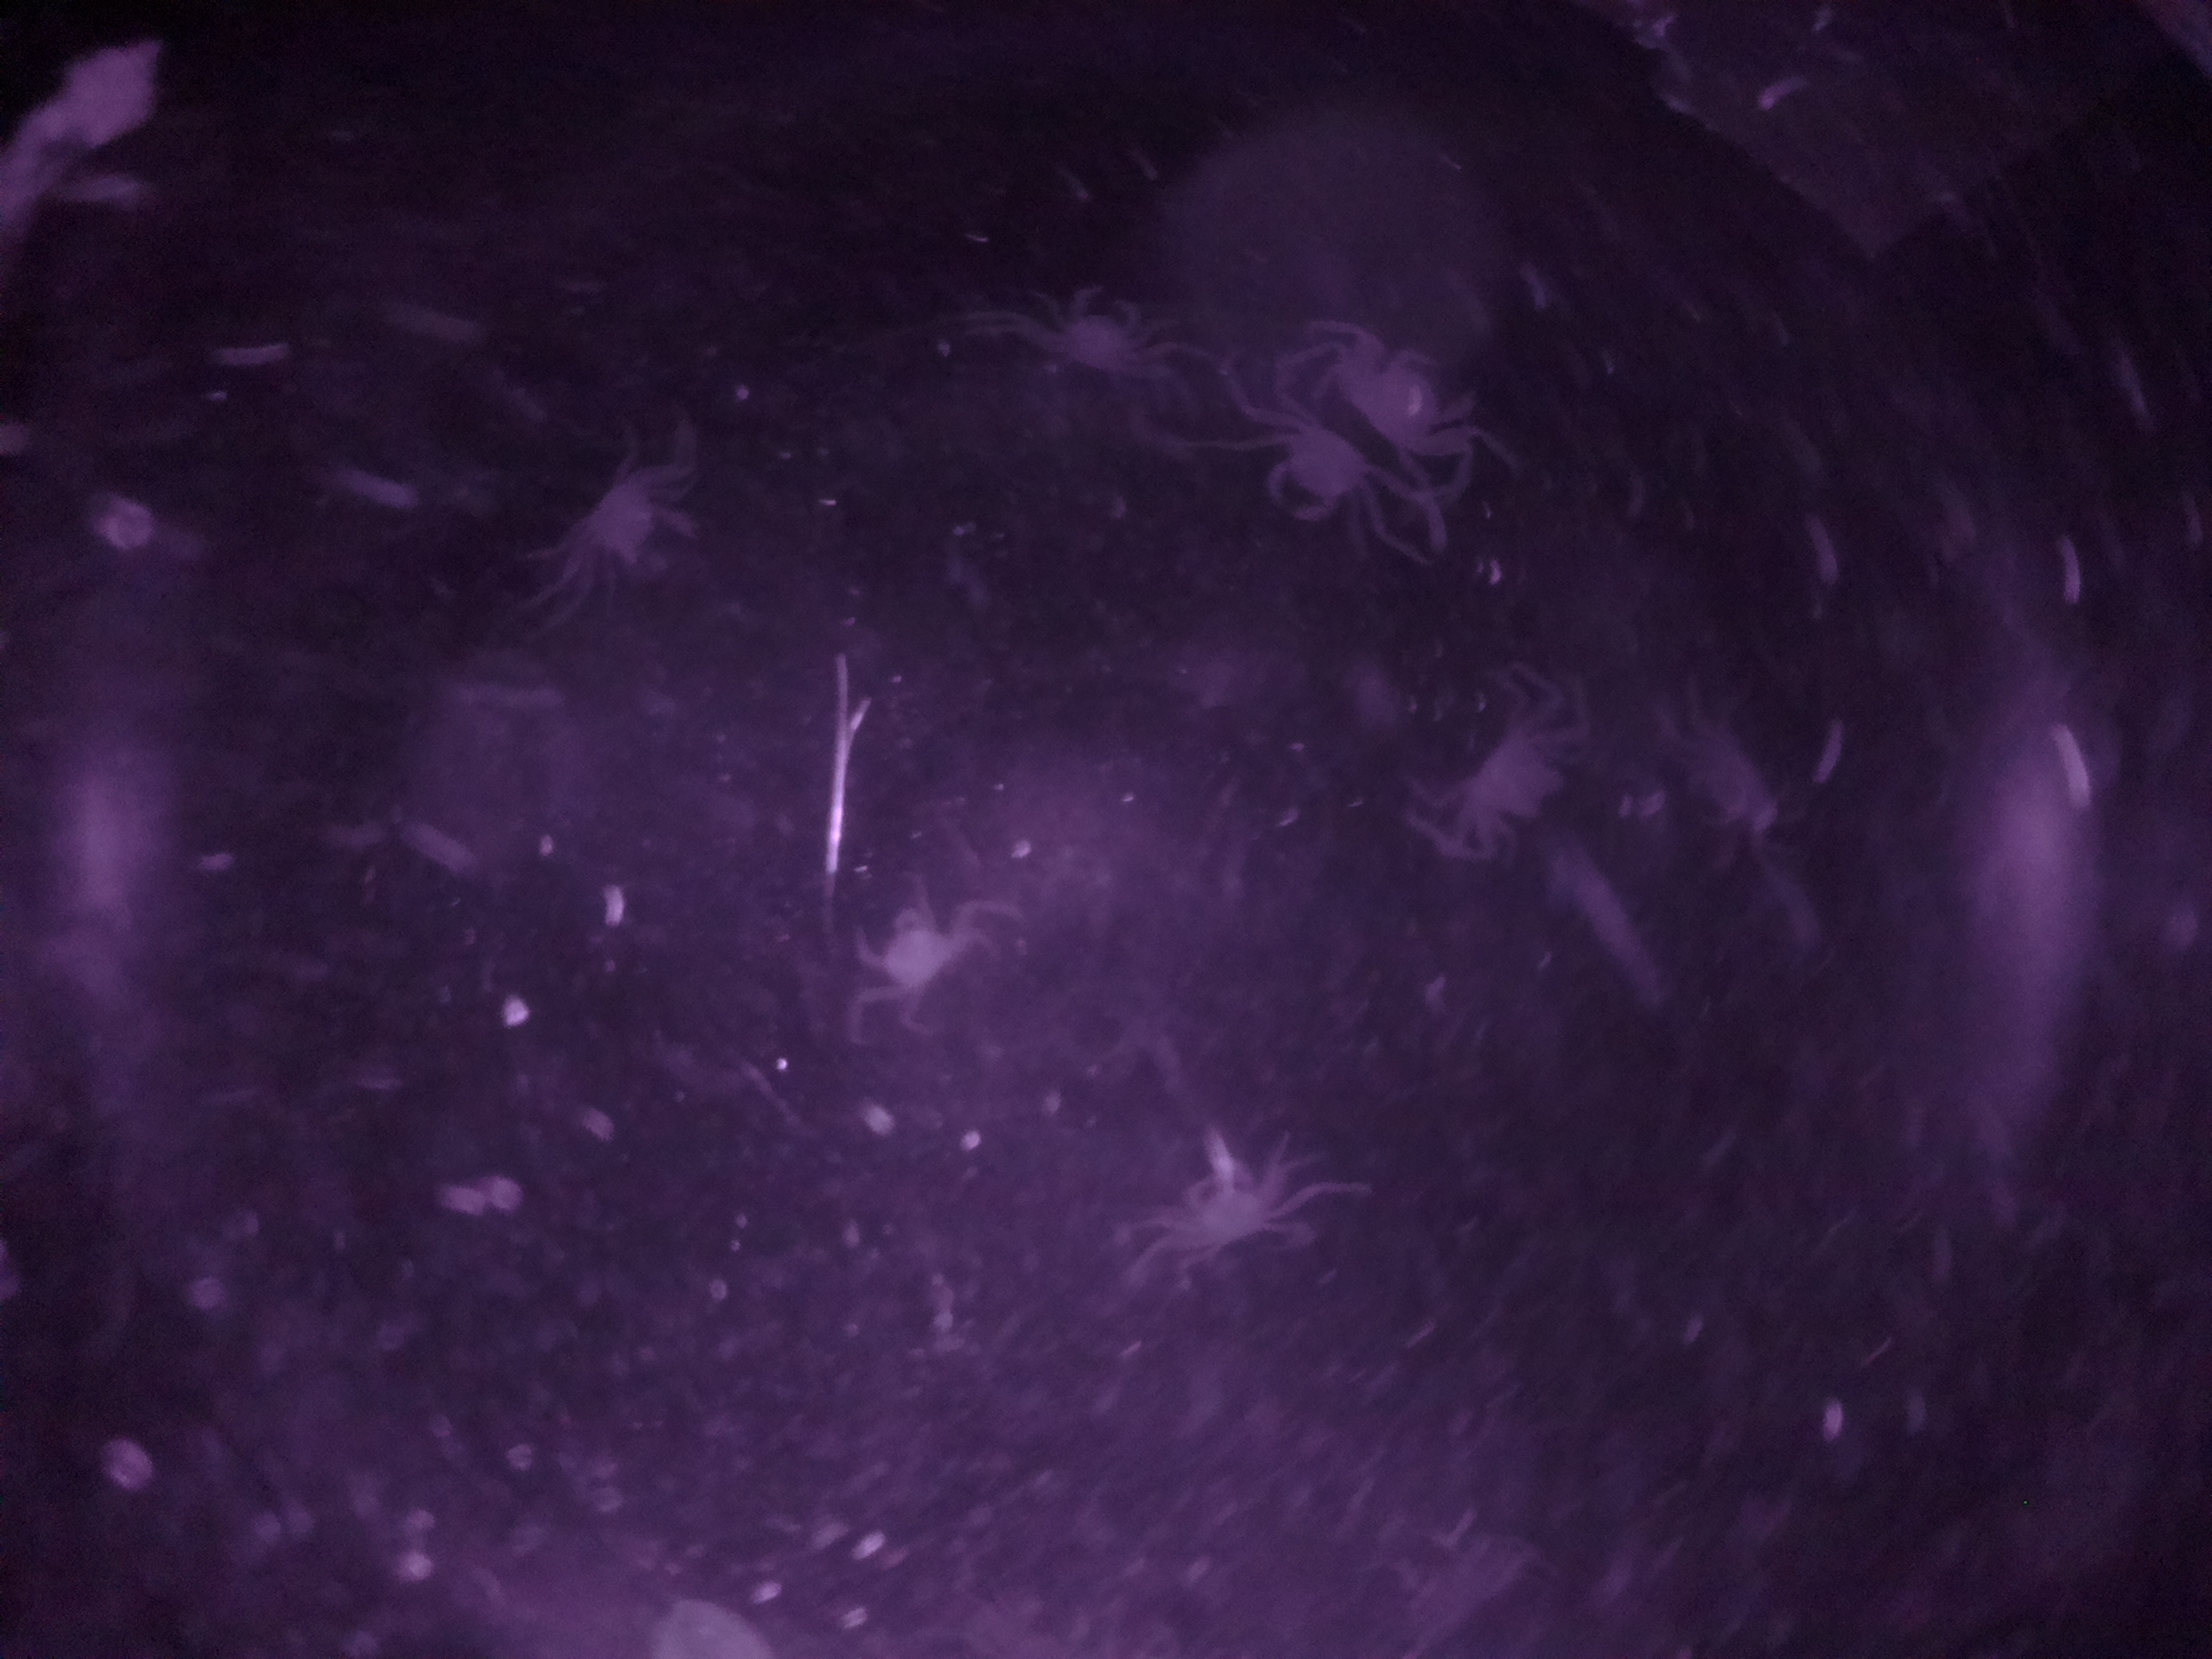Crab: (1244, 396, 1392, 558)
